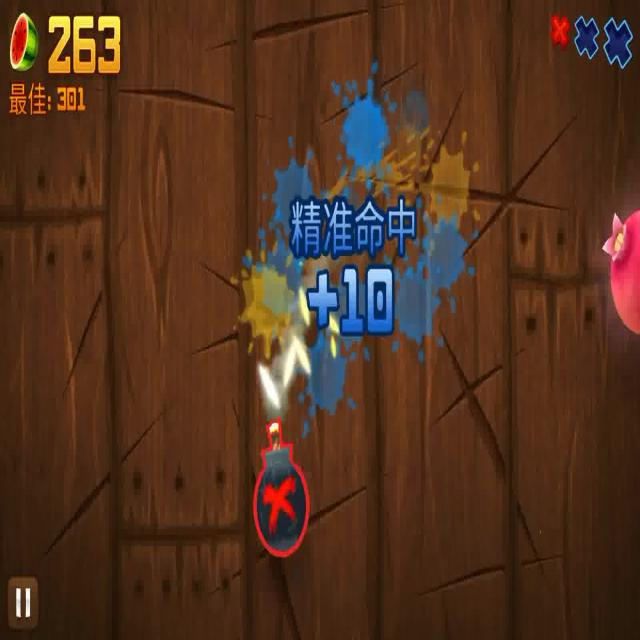bomb: (250, 380, 310, 560)
fruit: (605, 200, 640, 342)
